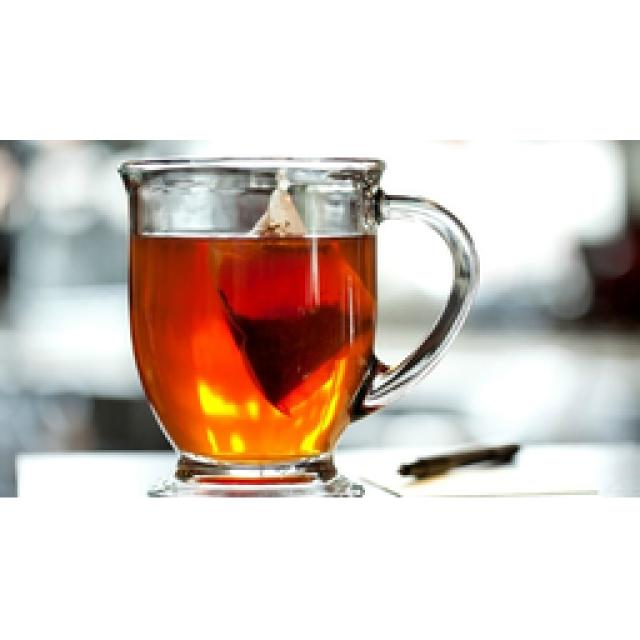tea-bags: (211, 186, 375, 414)
